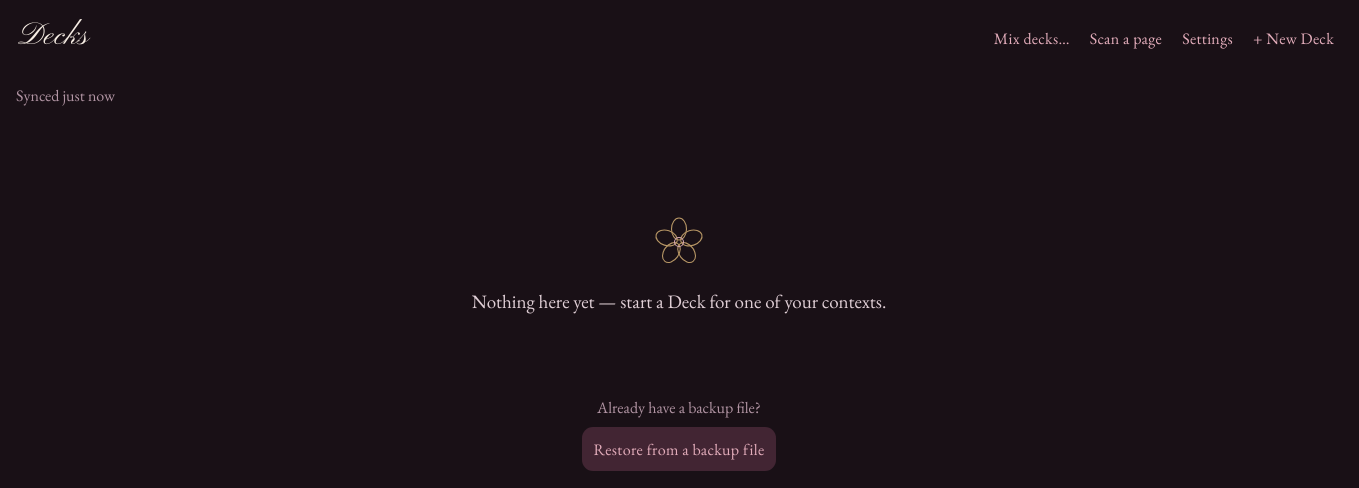
Scenario: App wired to Import › offers capture immediately — there is no on-device key to be missing any more
Click the button with test id "open-import" at (1126, 38), box [1082,16,1170,60]
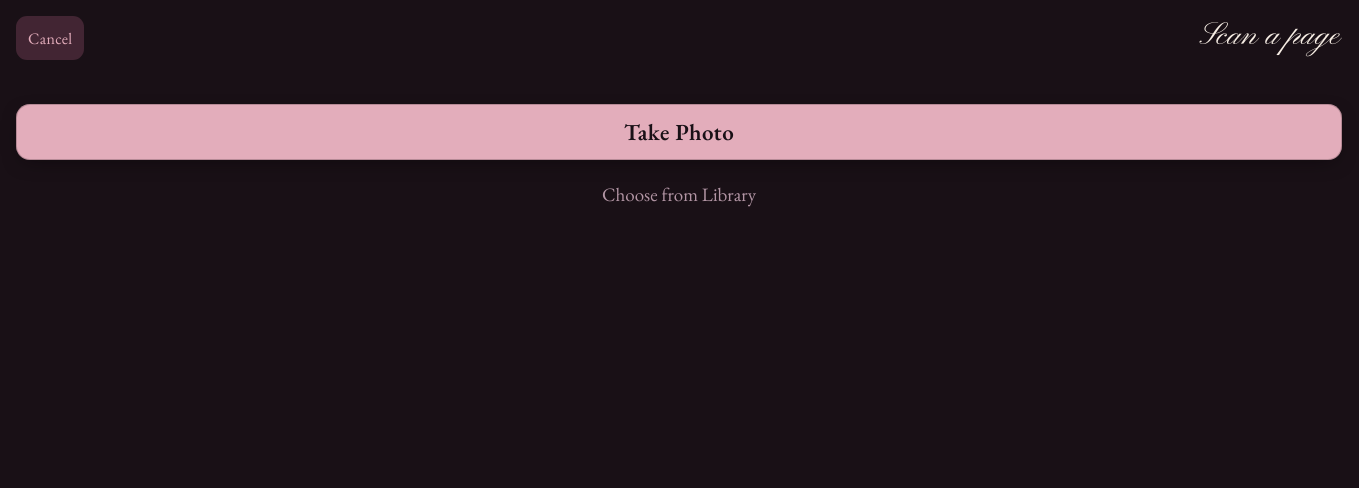
expect the button with test id "take-photo" is shown: met, box [16,104,1342,160]
